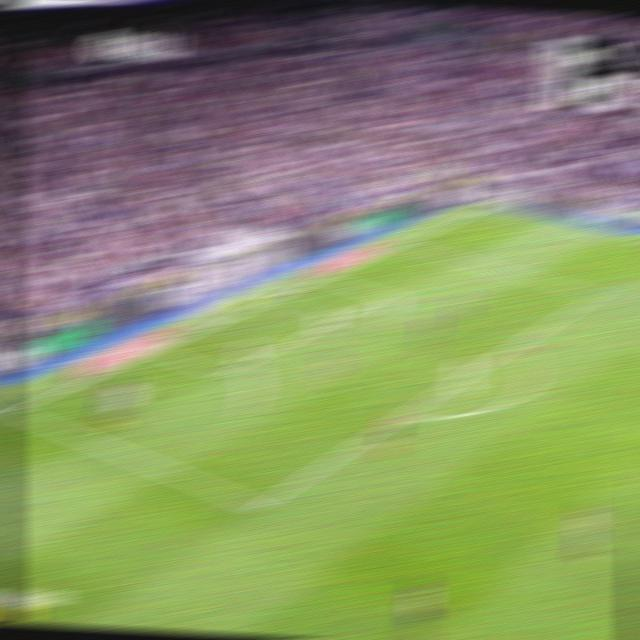bigarea_bottom_inner: (245, 492, 272, 521)
bigarea_bottom_outter: (2, 402, 27, 419)
bigarea_top_inner: (588, 284, 611, 302)
bigarea_top_outter: (392, 236, 415, 250)
bottom_arc_area_intersection: (388, 408, 411, 426)
corner: (472, 203, 496, 214)
smallarea_bottom_inner: (213, 365, 237, 383)
smallarea_top_inner: (375, 289, 395, 302)
top_arc_area_intersection: (505, 335, 529, 352)
